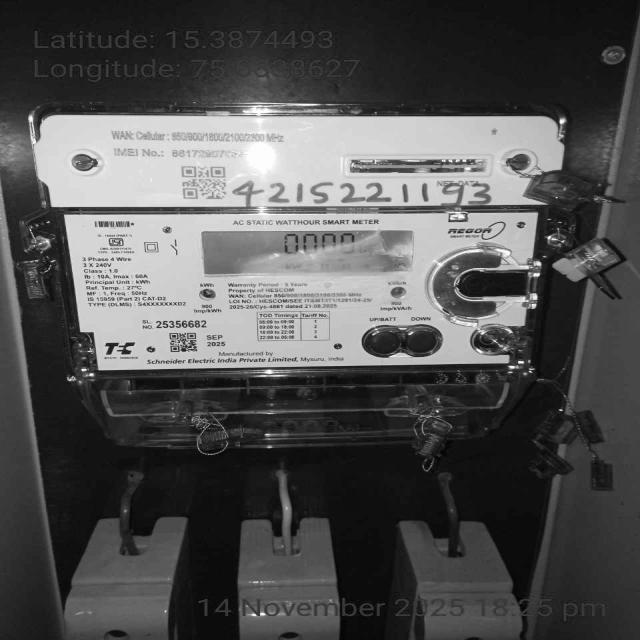meter: (45, 113, 545, 369)
